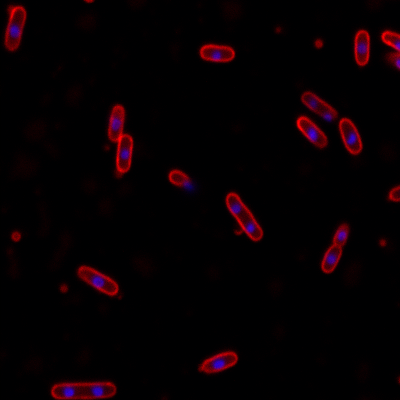CAM: (224, 191, 264, 242), (76, 262, 121, 297), (48, 380, 119, 400), (294, 116, 331, 149), (3, 4, 27, 51), (338, 116, 364, 156), (199, 351, 239, 375), (351, 28, 373, 66), (115, 133, 135, 174), (107, 103, 127, 143), (199, 43, 236, 63)
Oblique: (320, 222, 350, 274), (299, 88, 339, 122), (167, 167, 201, 195)
Vesicle: (57, 282, 71, 295), (10, 229, 23, 243), (375, 236, 388, 249), (313, 36, 325, 49), (272, 24, 284, 35)
